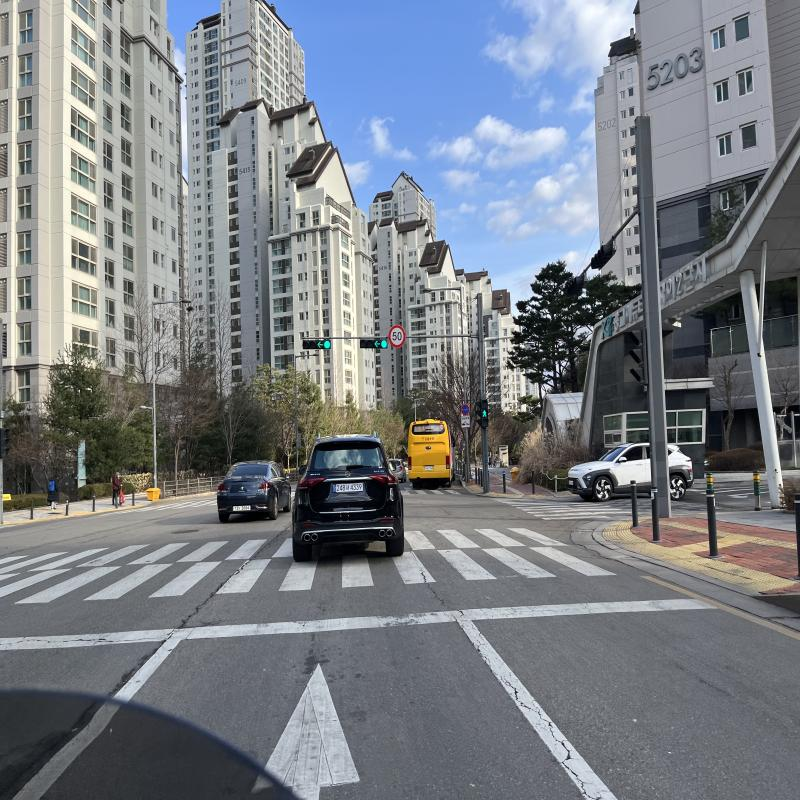green: (381, 340, 387, 348), (324, 341, 330, 348)
left: (316, 341, 324, 348), (374, 340, 381, 348)
